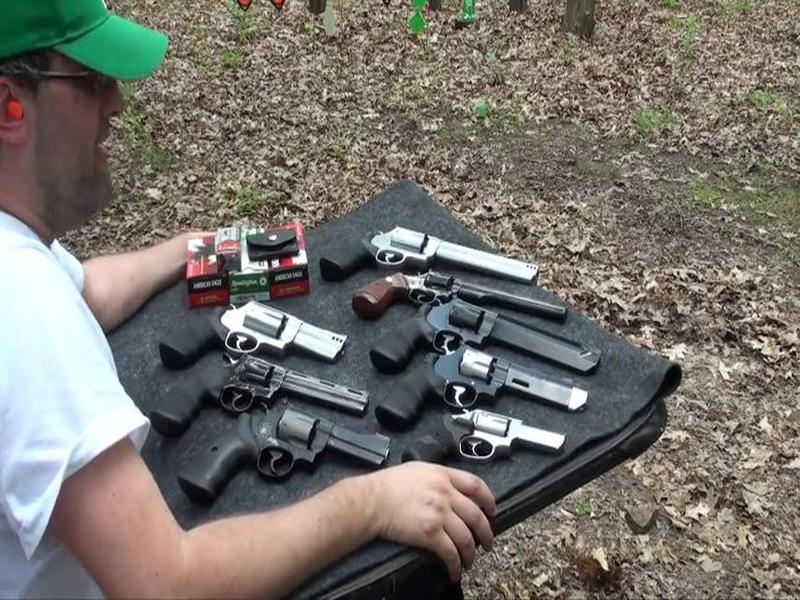Revolver: (379, 337, 577, 431)
